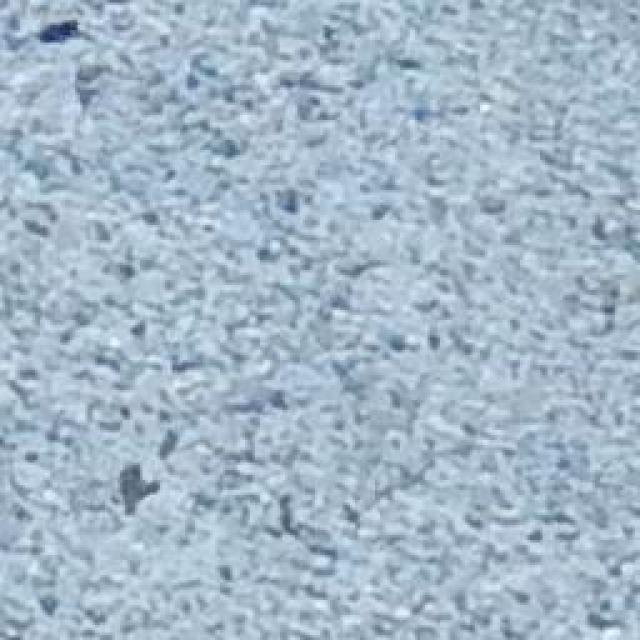concrete-crack: (11, 465, 340, 577)
